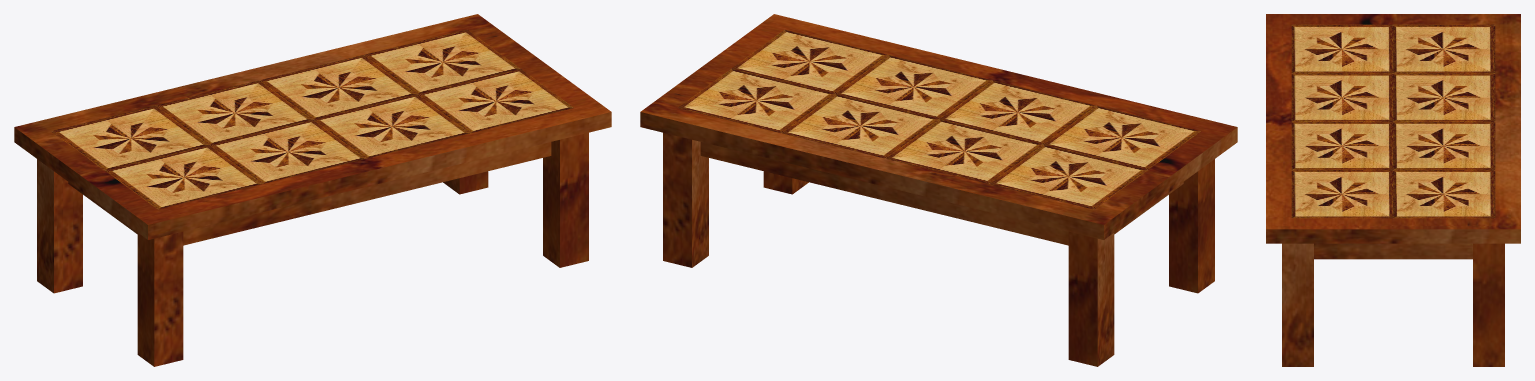
The model's file is CoffeeTableWithInlays07.fbx.
3 views of the same model, side by side, from view 1: azimuth 30°, elevation 25°; view 2: azimuth 150°, elevation 25°; view 3: azimuth 270°, elevation 25° (orthographic). The views are drawn at different scales.
Visible parts, largest first — view 1: default; view 2: default; view 3: default.
Boxes of the visible parts, x1,y1,x2,y2 form: default: (14,14,611,366); default: (640,14,1237,366); default: (1266,14,1520,366).
Bounding box in the file's own units: 376 × 118 × 188.
